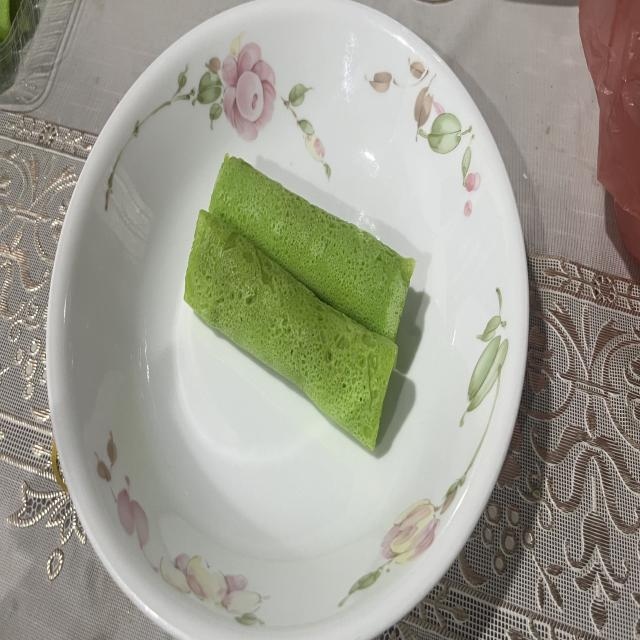Kuih-Ketayap: (184, 211, 398, 449), (209, 156, 415, 340)
